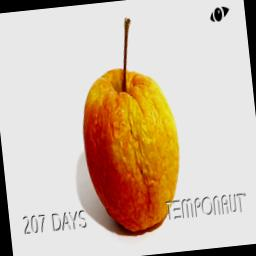Apple Overripe: (68, 0, 191, 239)
